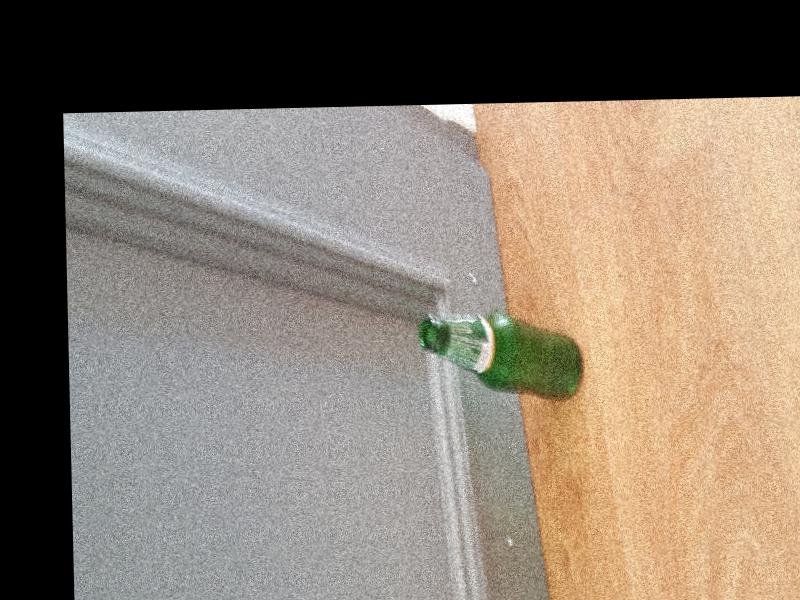Beer: (420, 314, 583, 401)
